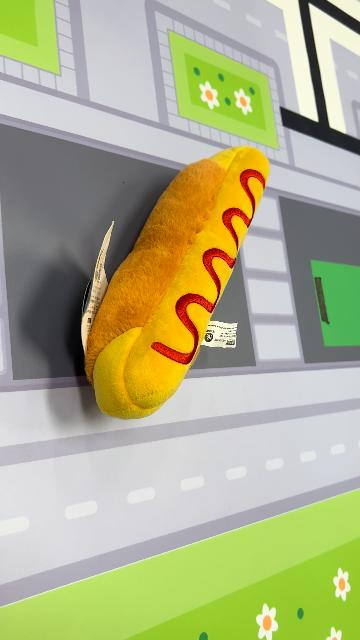hotdog: (84, 144, 272, 422)
